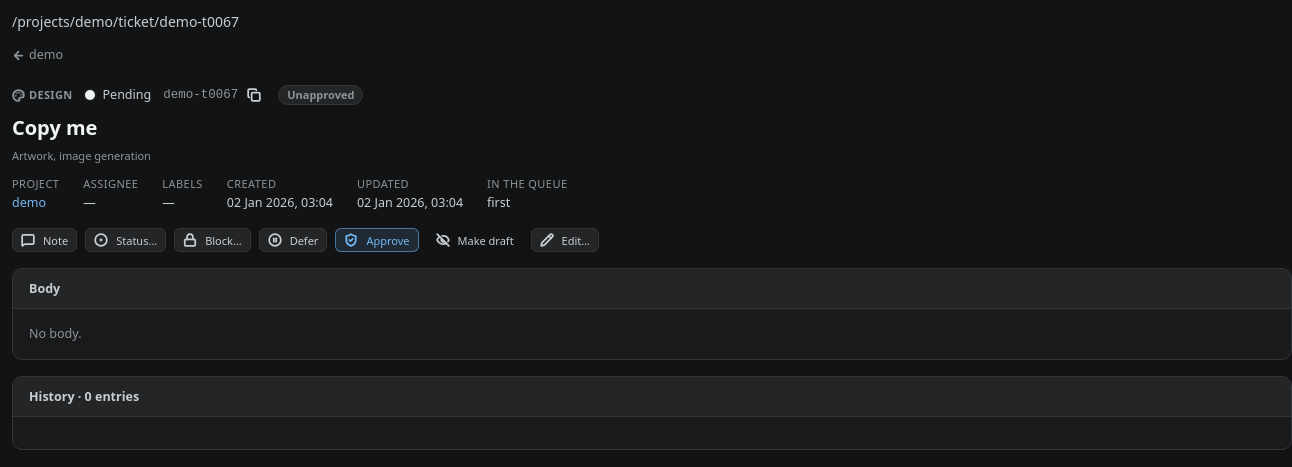
it: the id’s copy button › copies over plain http, with no clipboard, through a hidden textarea
Expected: the heading "Copy me" is shown, [12,114,97,141]
Click the button named "Copy demo-t0067": (254, 95) [242,83,266,107]
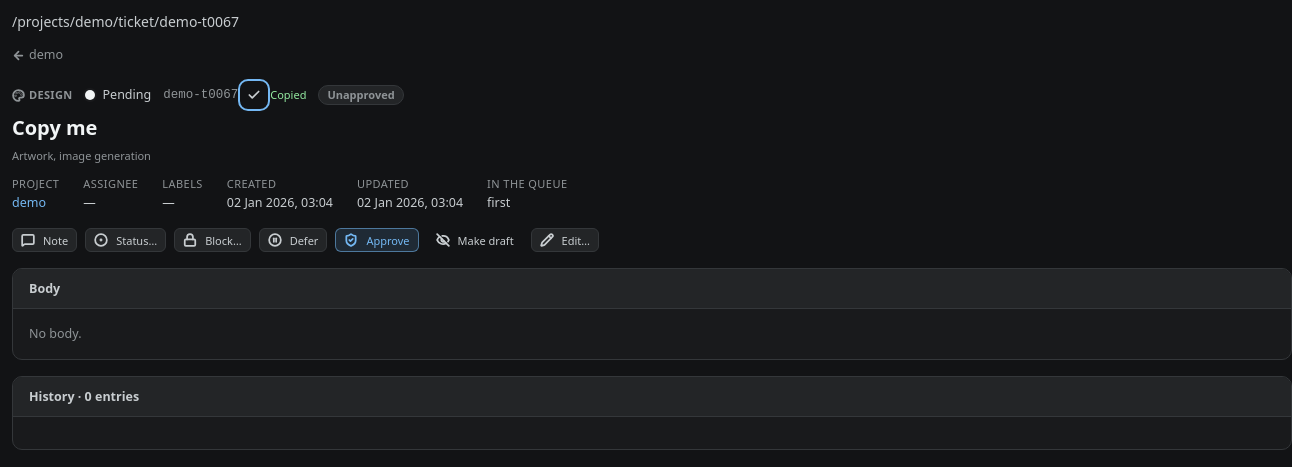
Expected: the message reads "Copied", [270,87,306,102]
